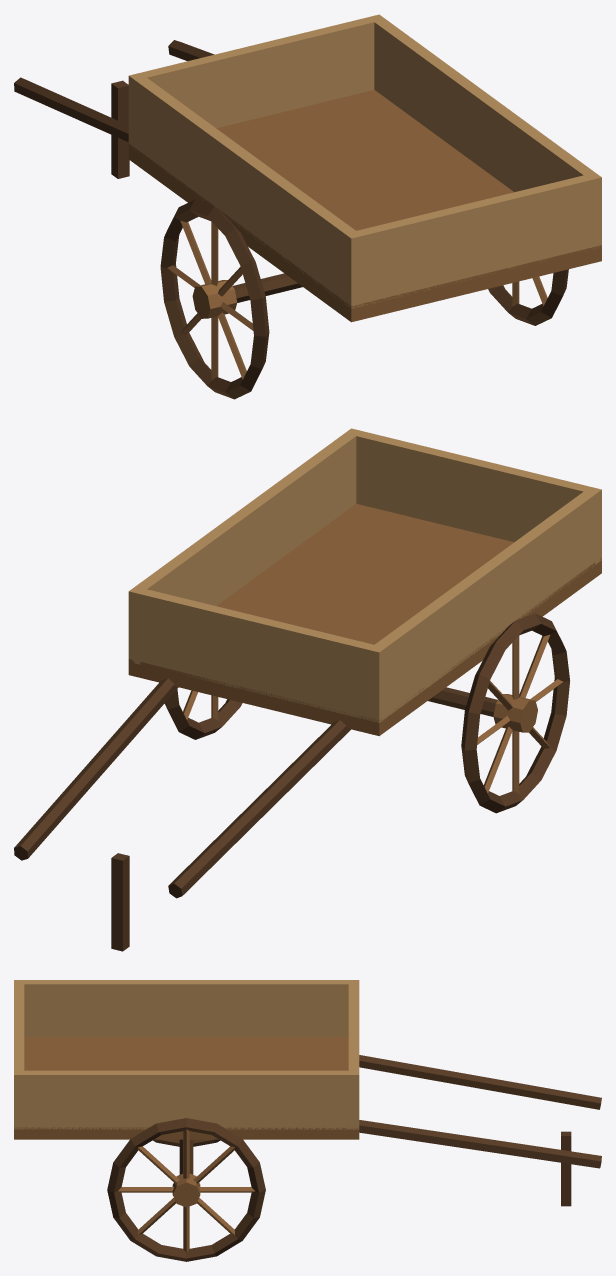
Rendered from farm_cart.glb.
3 renders of one model, top to bottom at view 1: azimuth 30°, elevation 25°; view 2: azimuth 150°, elevation 25°; view 3: azimuth 270°, elevation 25°, orthographic. The views are drawn at different scales.
Parts seen in each view (by area): view 1: farm_cart; view 2: farm_cart; view 3: farm_cart.
Boxes of the visible parts, x1,y1,x2,y2 form: farm_cart: [14, 14, 601, 399]; farm_cart: [14, 428, 601, 951]; farm_cart: [14, 980, 601, 1261].
Size of the model in its own units: 1.7 by 1.13 by 3.41.
